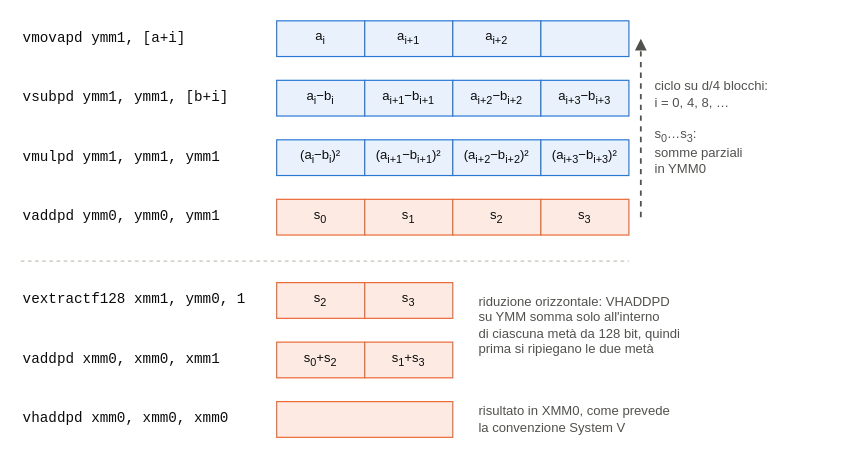
The diagram is 843 pixels wide and 464 high, and some of its shapes have lost their labels. Here are the shapes that lost their labels. From the top down, the centre of each, then its label:
At (584,38): "a i+3".
At (364,418): "Σ (a j −b j )²".
